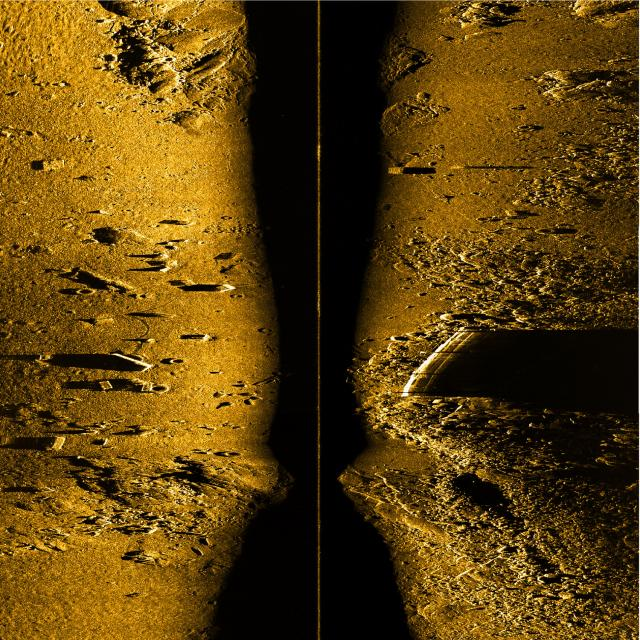other: (90, 5, 267, 126), (45, 222, 264, 310), (395, 322, 487, 404)
